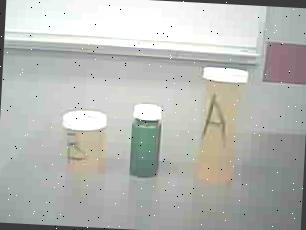Bottle A: (187, 58, 257, 192)
Bottle B: (54, 106, 117, 176)
Bottle C: (125, 103, 166, 180)
